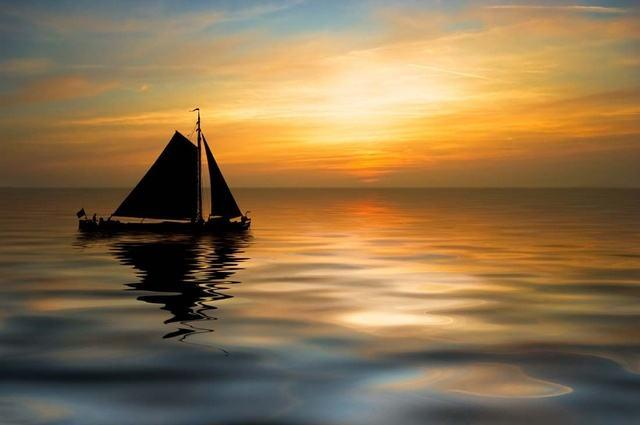fanchuan: (72, 108, 256, 237)
